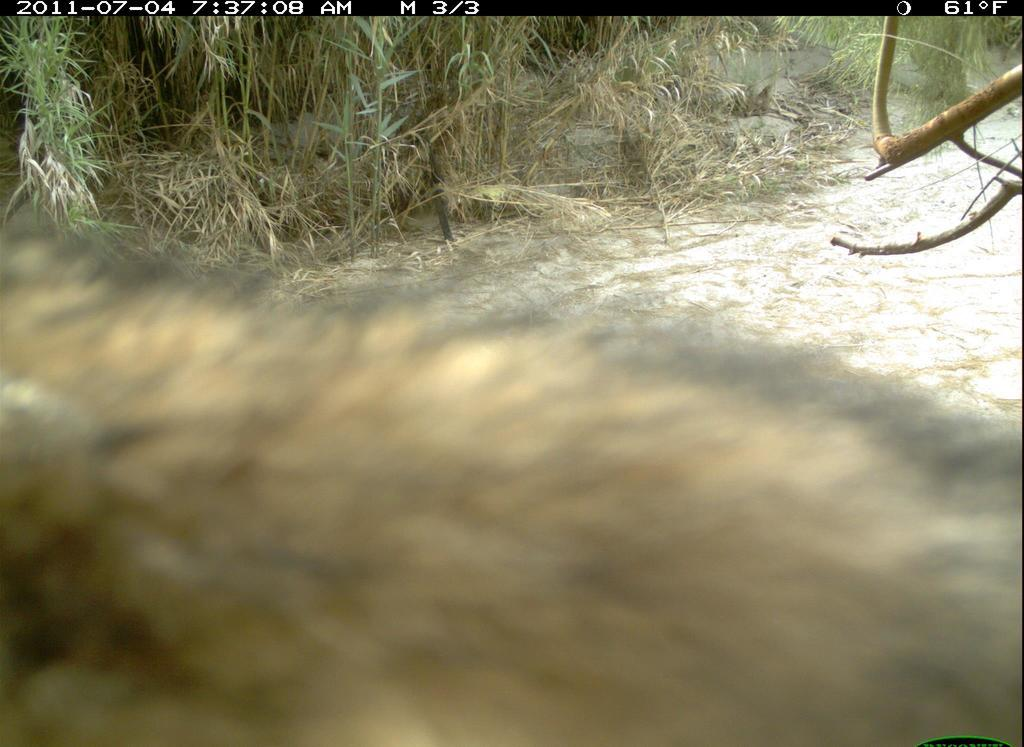coyote: (2, 190, 1023, 747)
